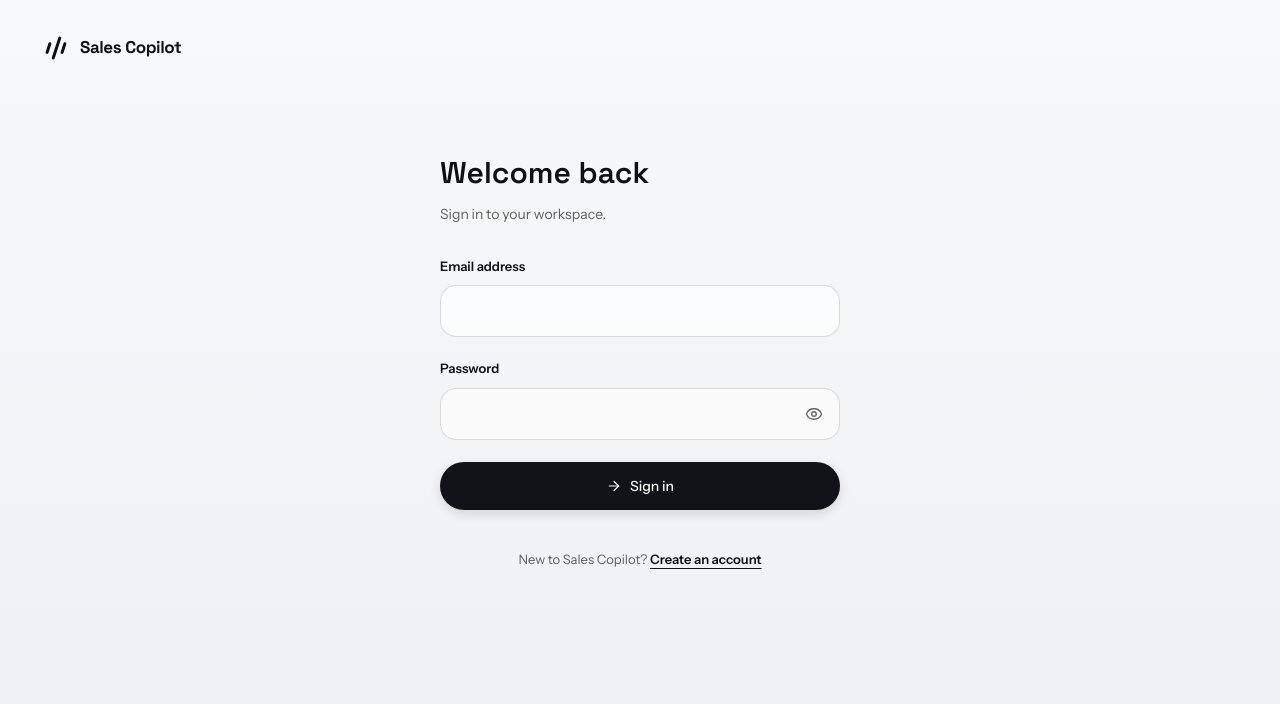
Test case: authenticated workspace flow › allows an existing account to sign in
In the field labelled "Email address": (640, 311) [440,285,840,337], type "asha@example.com"
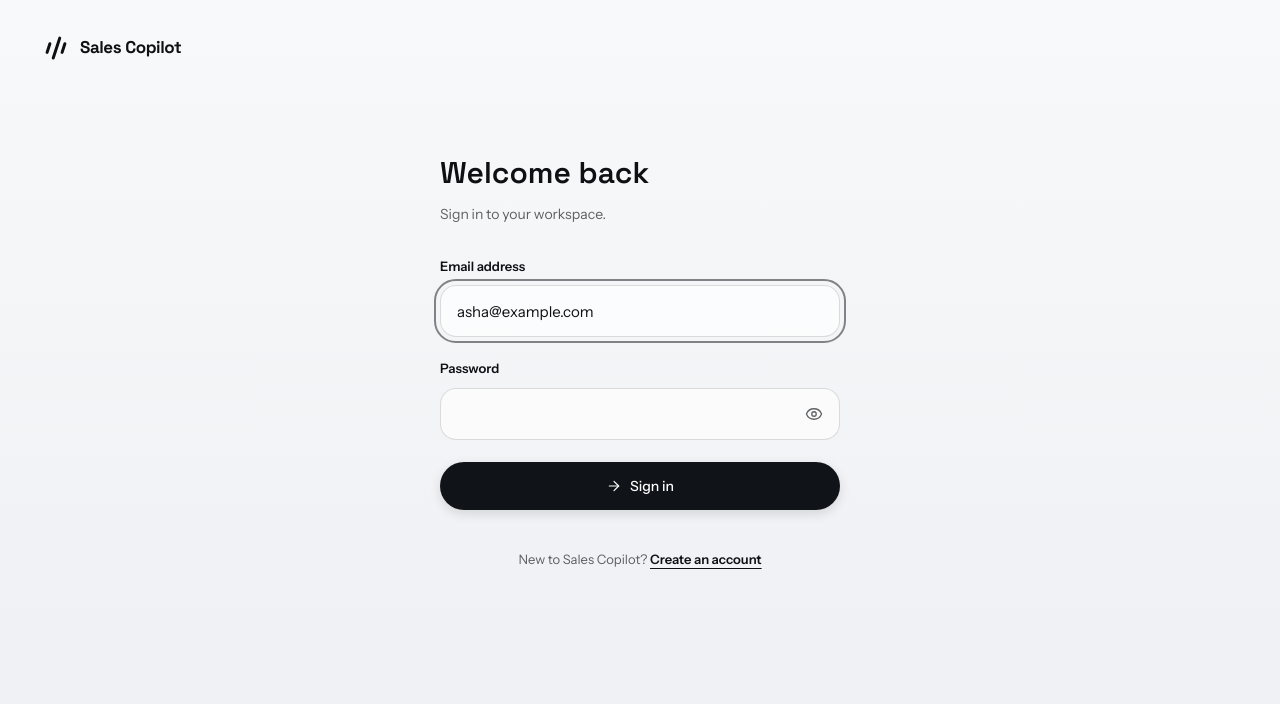
In the password field labelled "Password": (640, 414) [440,388,840,440], type "password123"
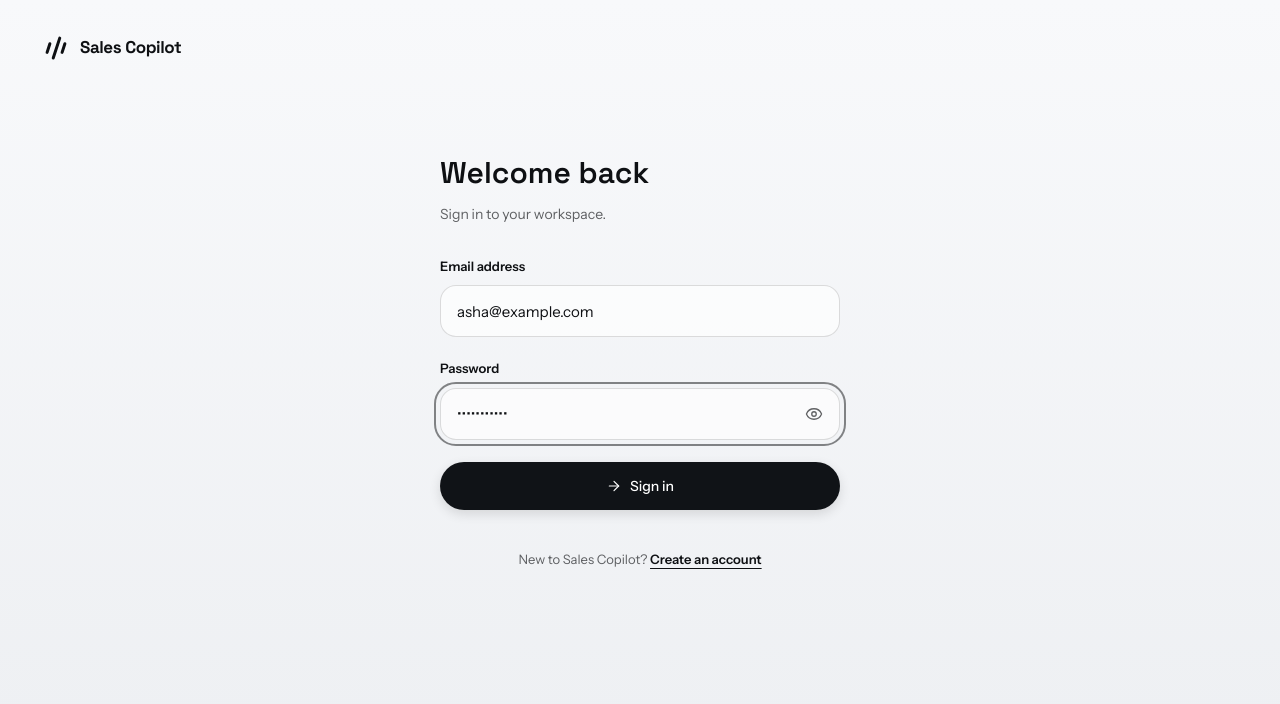
Click the button "Sign in": (640, 486) [440,462,840,510]
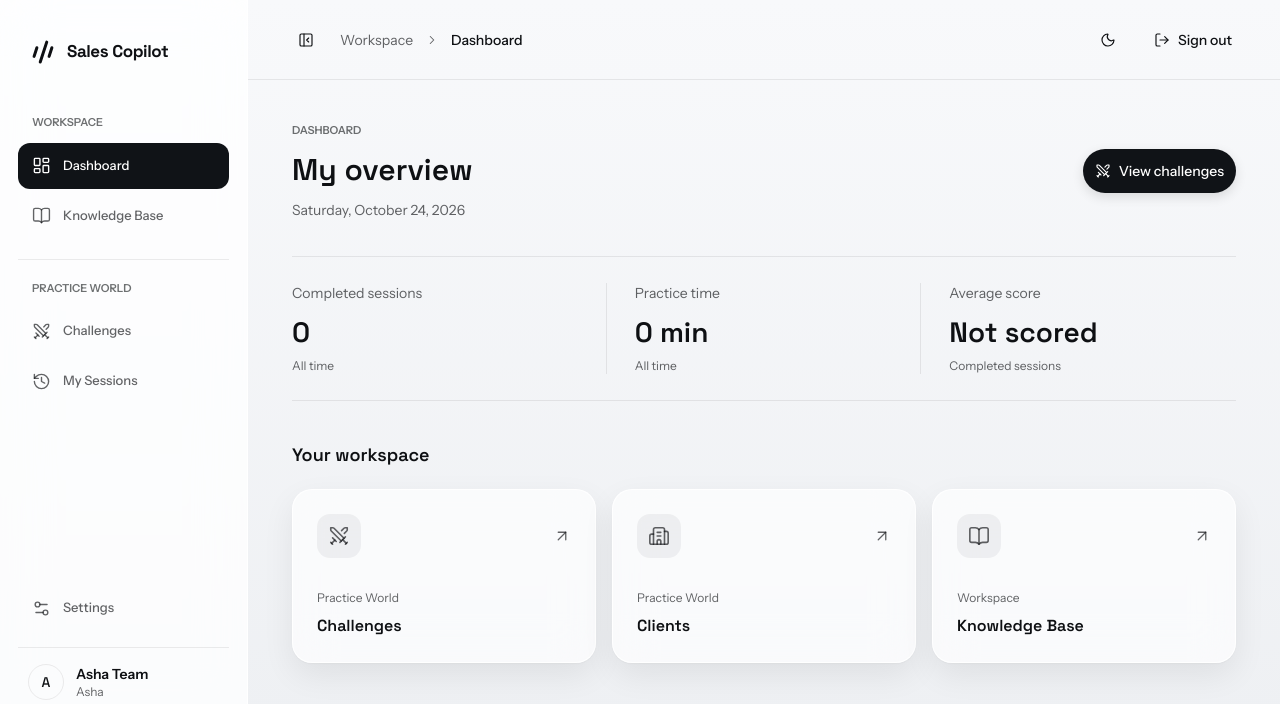
expect the heading "My overview" is shown: met, box [292,150,473,188]
